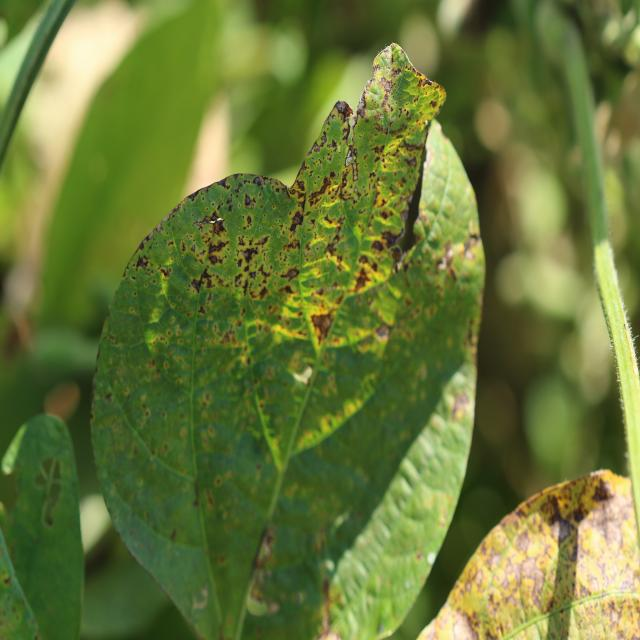Bacterial_Blight: (337, 157, 363, 203), (435, 238, 460, 281), (314, 306, 342, 341), (373, 73, 394, 114), (255, 529, 275, 568), (318, 576, 332, 631), (451, 388, 472, 421), (233, 258, 255, 287), (190, 268, 212, 294), (353, 265, 374, 292), (325, 229, 344, 257), (288, 176, 307, 204), (238, 244, 260, 267), (379, 229, 400, 250), (207, 237, 229, 256), (346, 149, 359, 181), (356, 89, 370, 118), (307, 185, 326, 206), (388, 243, 404, 266), (251, 435, 267, 458), (317, 175, 333, 197), (279, 266, 300, 282), (334, 100, 351, 118), (289, 210, 304, 230), (220, 328, 237, 345), (374, 323, 390, 341), (211, 218, 227, 236), (135, 254, 150, 272), (371, 238, 386, 253), (403, 153, 418, 168), (158, 265, 171, 280), (193, 478, 201, 502), (205, 490, 215, 509), (468, 230, 480, 245), (217, 622, 227, 639), (244, 193, 256, 207), (255, 234, 269, 246), (319, 132, 328, 147), (328, 138, 338, 150), (253, 175, 263, 186), (104, 391, 113, 402), (430, 99, 438, 109), (218, 555, 226, 564)
Soybean: (89, 45, 486, 640)
